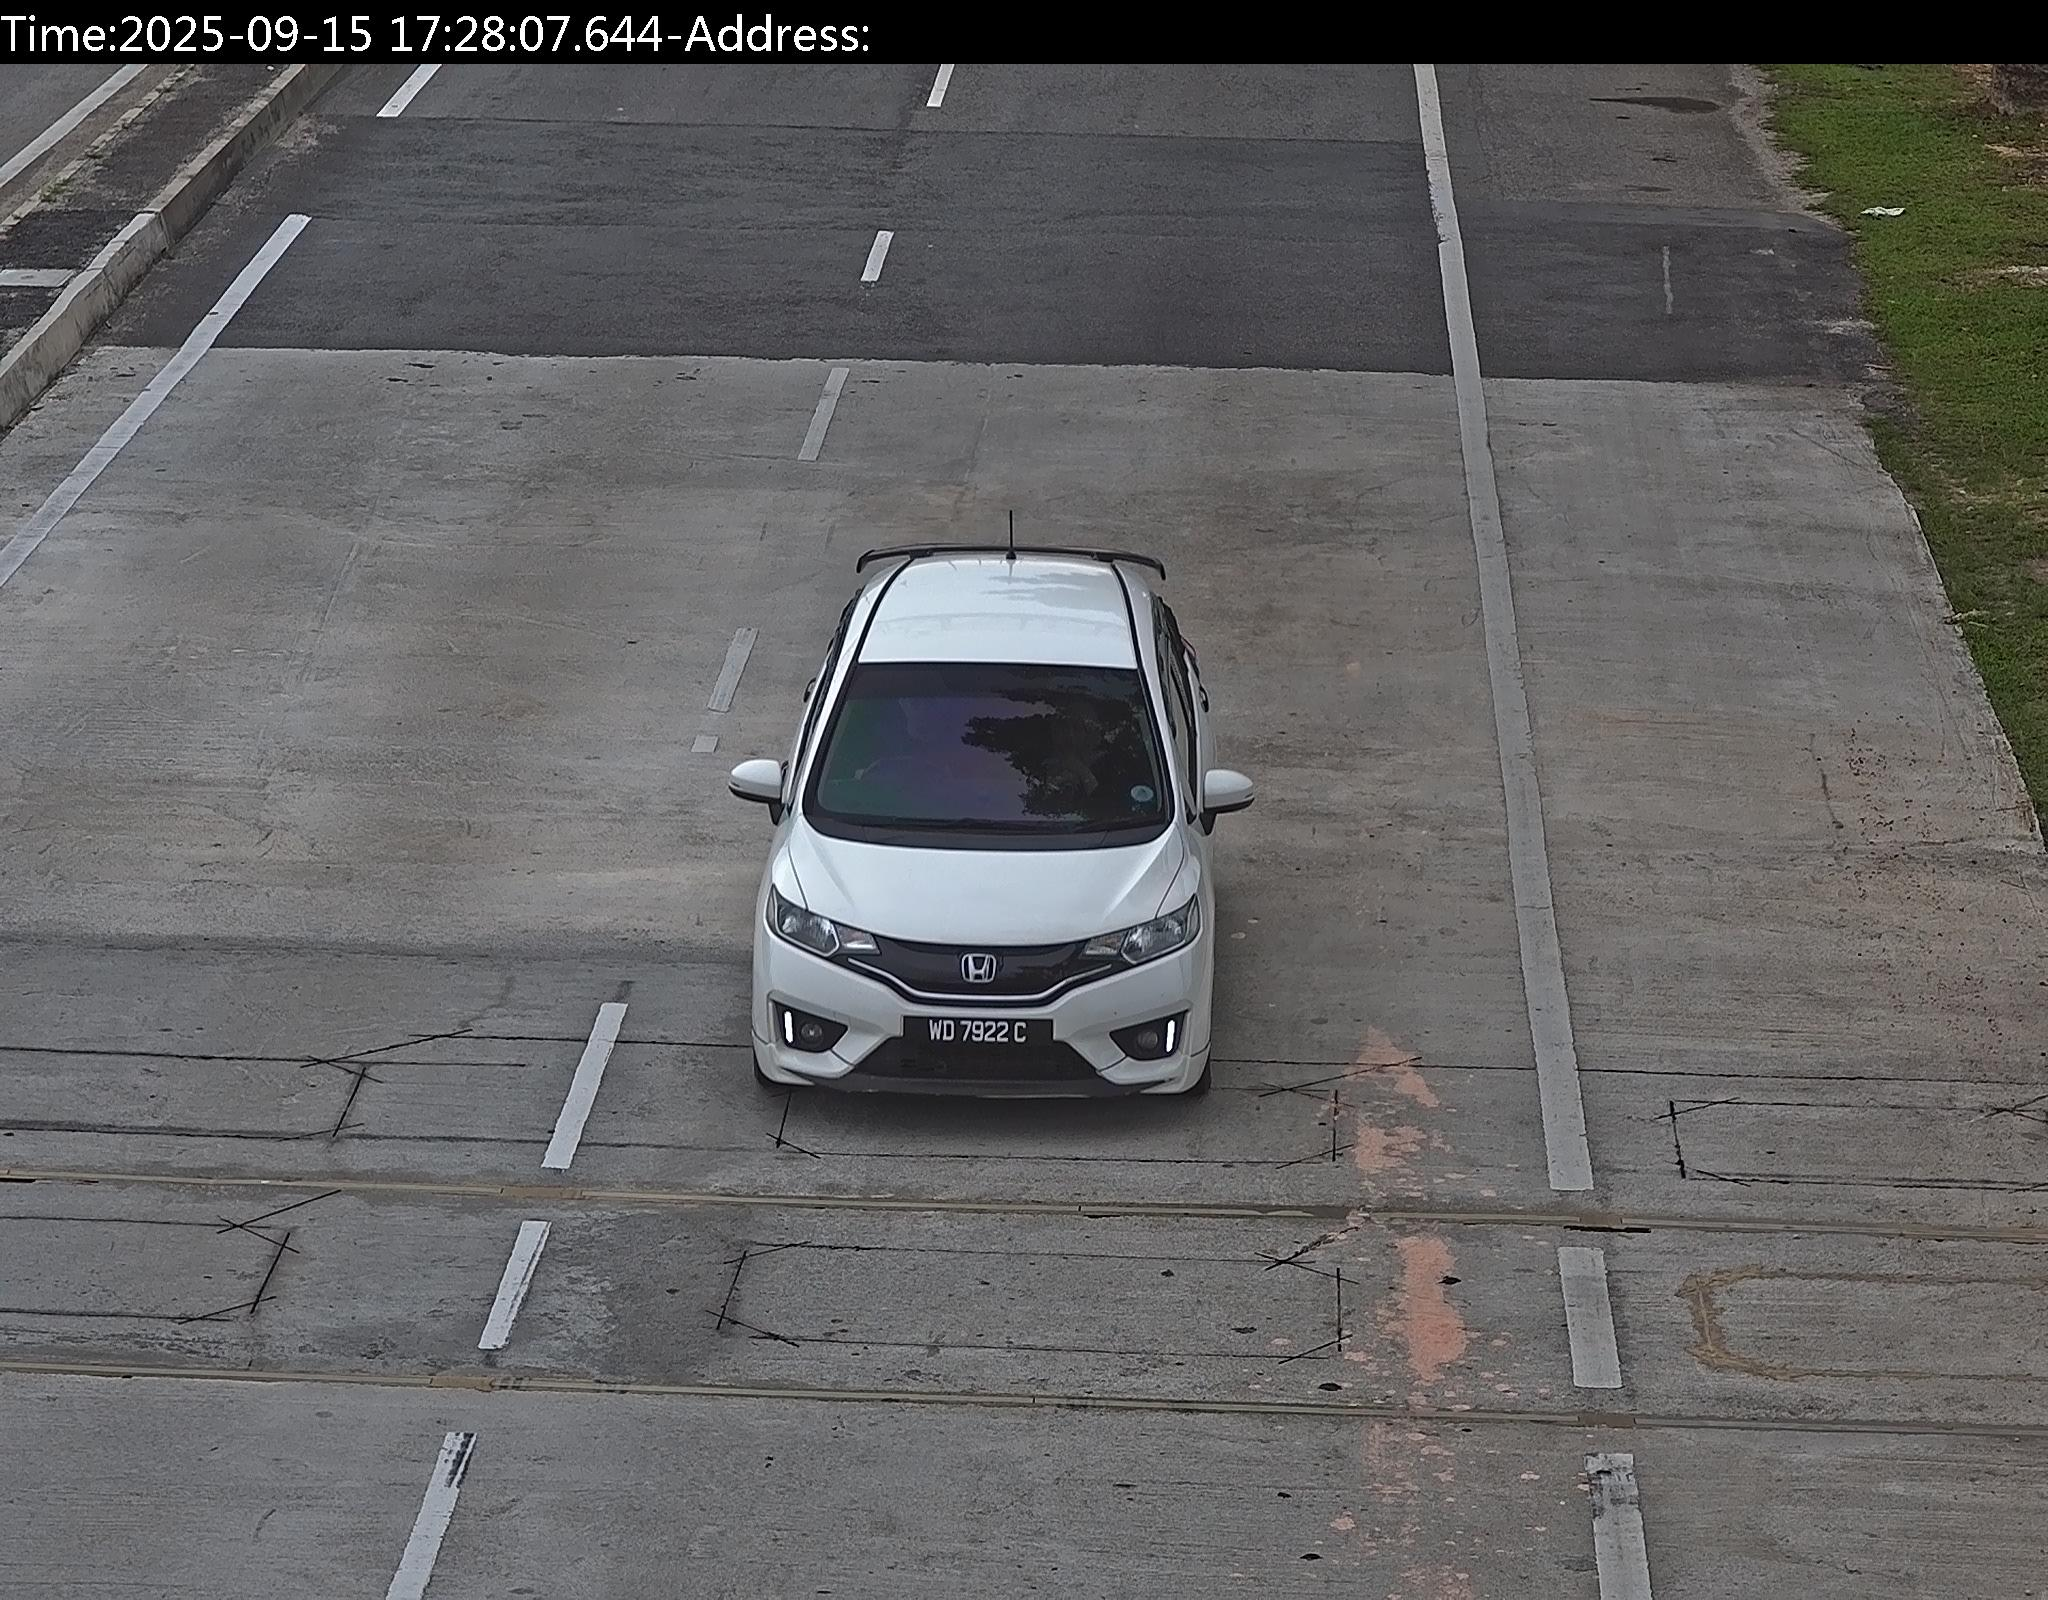non broken: (908, 1018, 1047, 1049)
